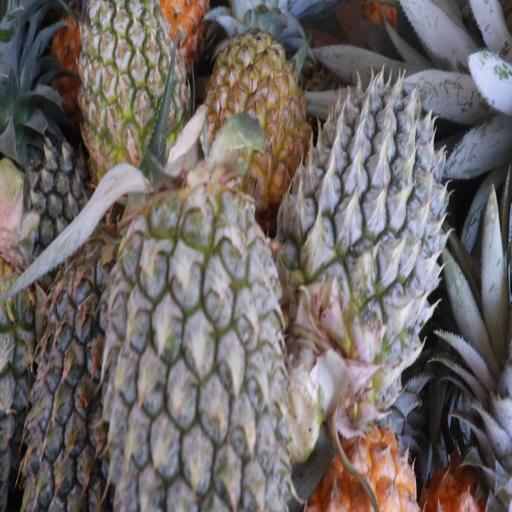------------------------------: (76, 0, 189, 161)
Pineapple - v8 v1: (199, 26, 300, 196)
